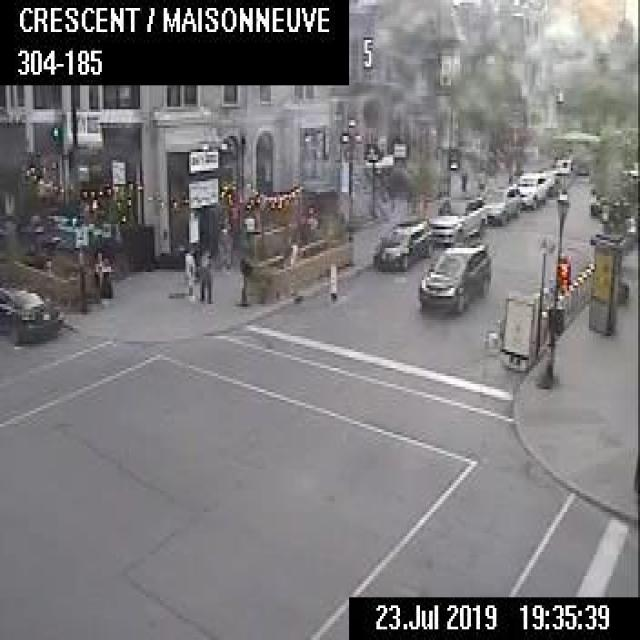pedestrian: (198, 244, 212, 303), (184, 243, 196, 298)
vehicle: (417, 243, 491, 312), (0, 285, 62, 344), (372, 217, 432, 267), (427, 193, 486, 242), (481, 183, 520, 223), (514, 169, 552, 208), (545, 156, 572, 188)
